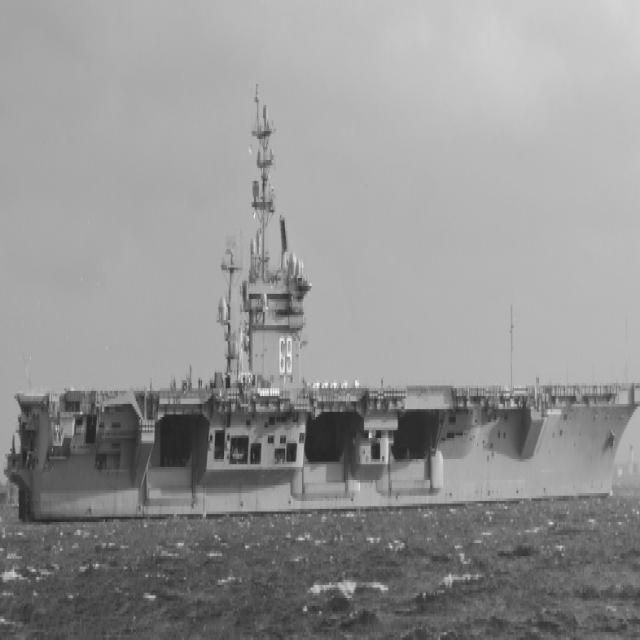Portanaves: (6, 71, 640, 541)
